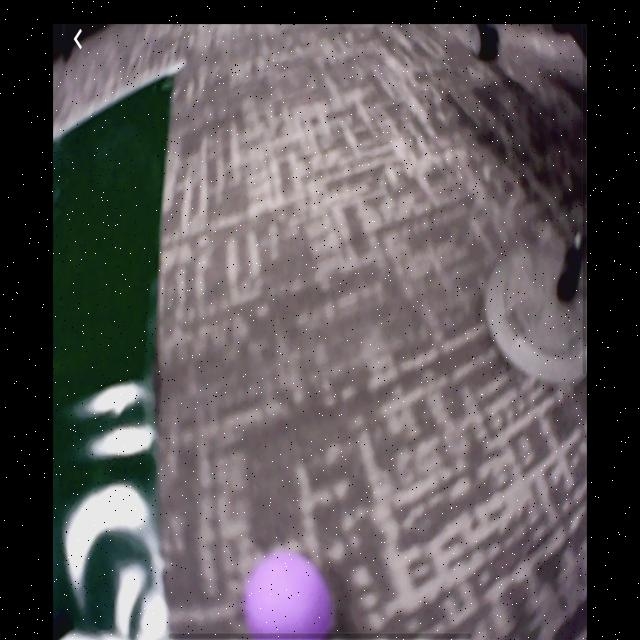ball: (248, 551, 333, 640)
